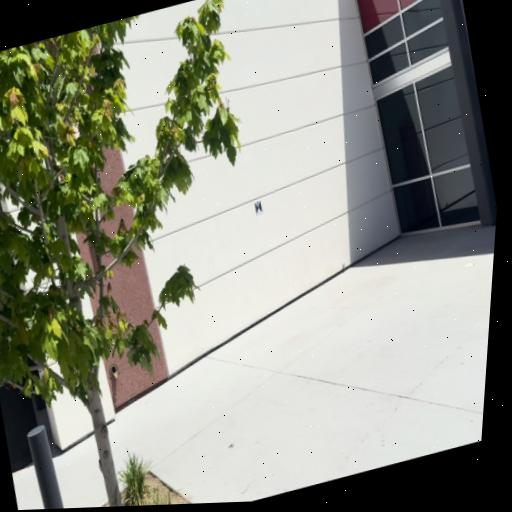target0: (254, 198, 263, 216)
